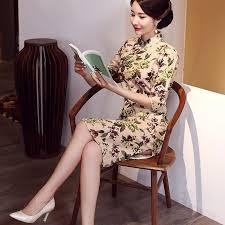dress: (88, 34, 182, 167)
